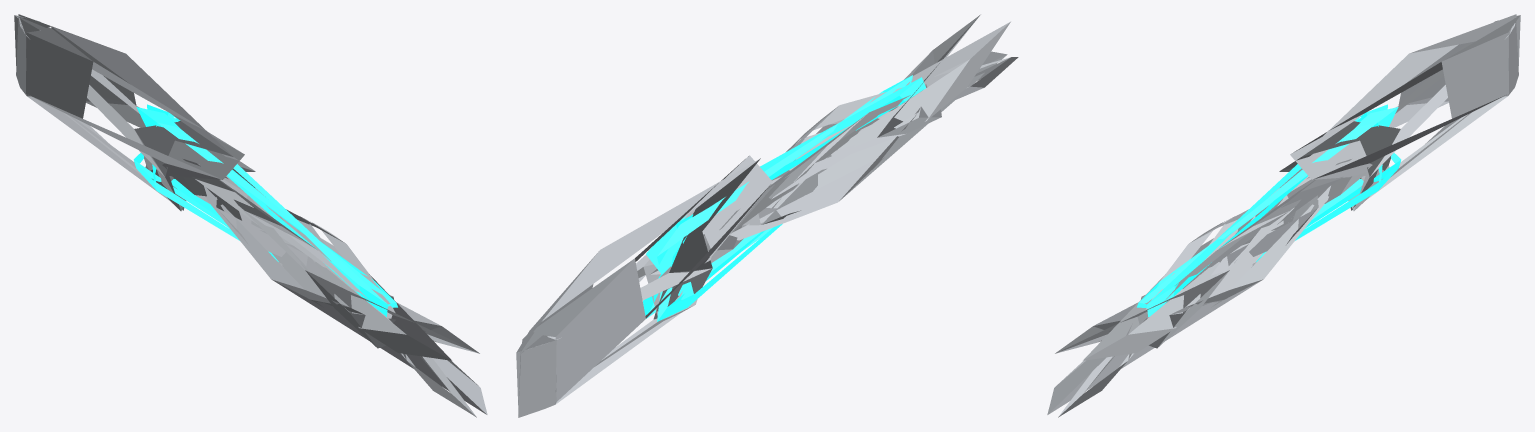
File: SweapBlade002.glb
3 renders of one model, left to right at view 1: azimuth 30°, elevation 25°; view 2: azimuth 150°, elevation 25°; view 3: azimuth 330°, elevation 25°, orthographic. The views are drawn at different scales.
Visible parts, largest first — view 1: part_00; view 2: part_00; view 3: part_00.
Boxes of the visible parts, x1,y1,x2,y2 form: part_00: (14, 14, 487, 417); part_00: (516, 14, 1018, 417); part_00: (1047, 14, 1520, 417).
Bounding box in the file's own units: 0.1841 × 0.3309 × 2.78.
